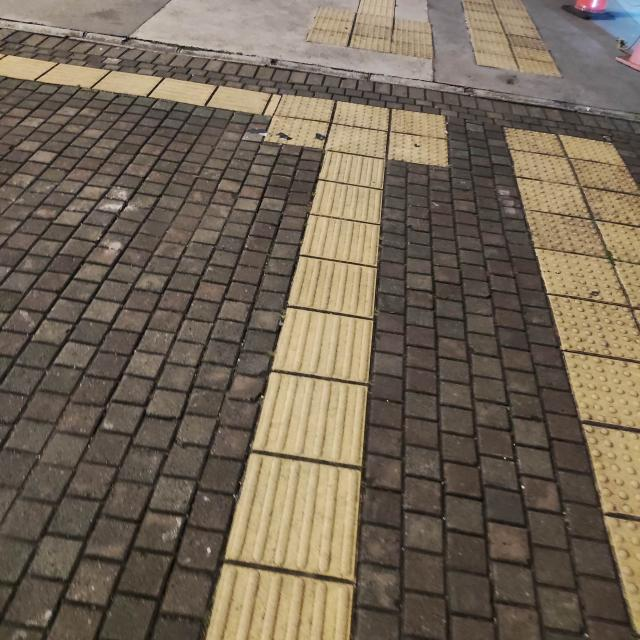kiri: (186, 58, 438, 201)
